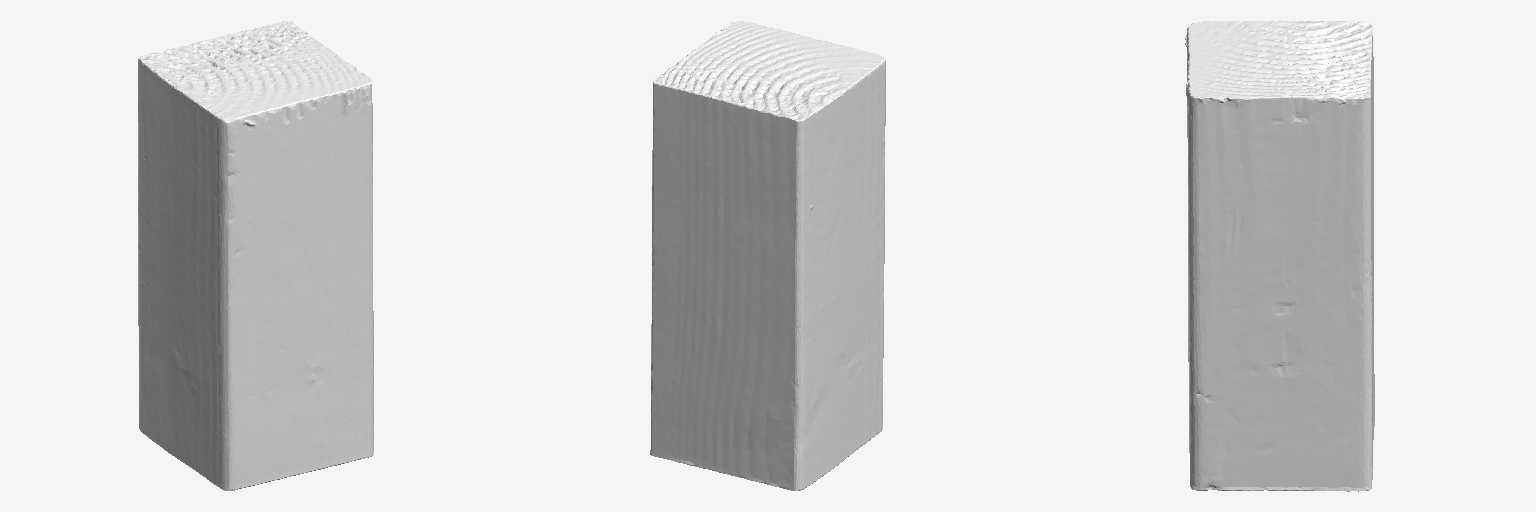
URDF robot description (d_lego_duplo):
<robot name="d_lego_duplo">
	<link name="base_link">
		<visual>
			<origin xyz="0.02022260894778108 0.029911376763957505 -0.022775232245389507" rpy="0.0 0.0 0.0" />
			<geometry>
				<mesh filename="073-d_lego_duplo/google_16k/textured.obj" scale="1 1 1" />
			</geometry>
			<material name="texture">
				<color rgba="1.0 1.0 1.0 1.0" />
			</material>
		</visual>
		<collision>
			<origin xyz="0.02022260894778108 0.029911376763957505 -0.022775232245389507" rpy="0.0 0.0 0.0" />
			<geometry>
				<mesh filename="073-d_lego_duplo/google_16k/textured_vhacd.obj" scale="1 1 1" />
			</geometry>
		</collision>
		<inertial>
			<mass value="0.0372" />
			<inertia ixx="1e-3" ixy="0.0" ixz="0.0" iyy="1e-3" iyz="0.0" izz="1e-3" />
		</inertial>
	</link>
</robot>

--- Facts derived from the render (not from the file) ---
The picture shows the robot from 3 angles, left to right: view 1: azimuth 30°, elevation 25°; view 2: azimuth 150°, elevation 25°; view 3: azimuth 270°, elevation 25°; orthographic projection.
Robot: d_lego_duplo — 1 links, 0 joints (none); root link base_link; default pose: all joints at 0.
Links seen in each view (by area): view 1: base_link; view 2: base_link; view 3: base_link.
Link boxes in pixels (x1,y1,x2,y2): base_link: (138,21,373,490); base_link: (650,21,885,490); base_link: (1185,20,1374,491).
Size in the robot's own frame: 0.0906 by 0.0899 by 0.206 metres.
1 mesh visuals loaded from 1 distinct referenced files (1 OBJ).